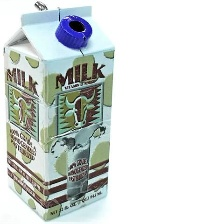carton: (0, 3, 116, 224)
